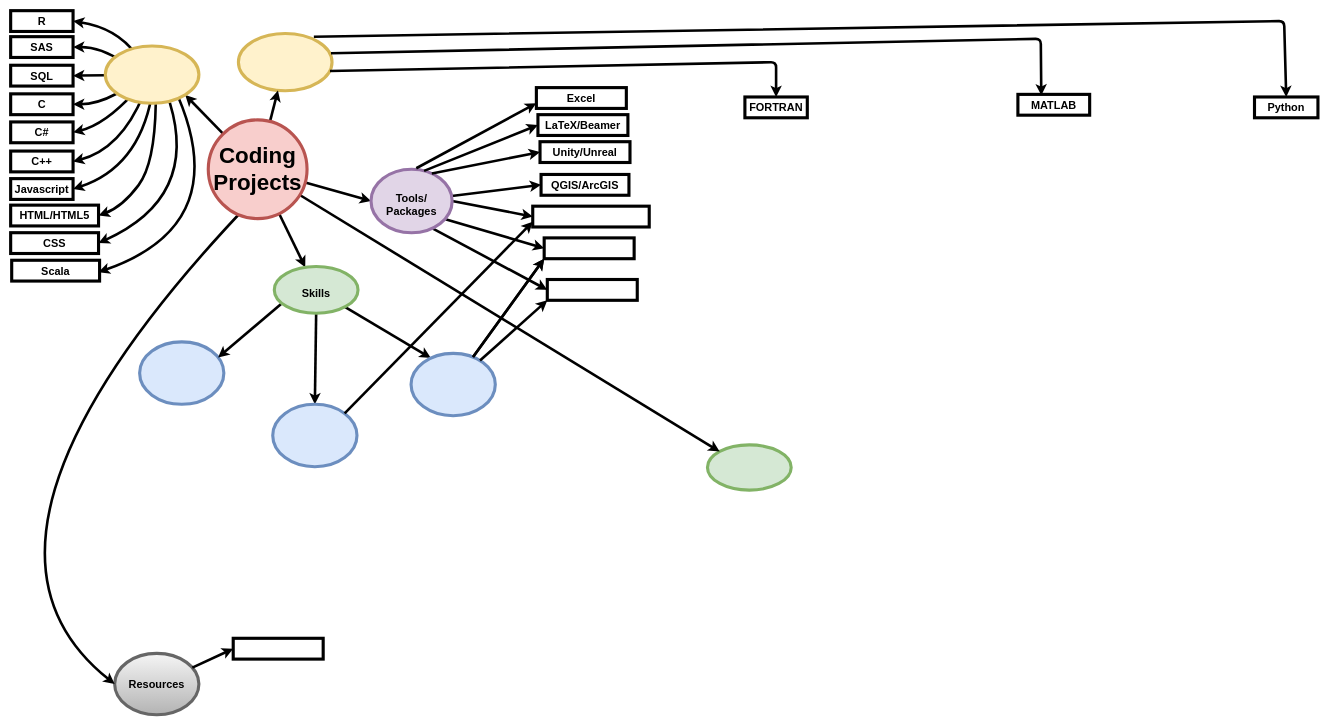
Some shapes in this 1328 by 725 pixel diagram are drawn without their labels. Here are the shapes that lost their labels. From the top down, the centre of each, then its label:
the point at 151,74: New Languages
the point at 285,62: Known Languages
the point at 591,216: Tensorflow/Keras
the point at 588,248: Dash
the point at 592,290: Tableau
the point at 181,373: Statistical Analysis
the point at 453,384: Data Visualisation
the point at 314,435: AI/Machine Learning
the point at 749,467: Practice Projects
the point at 277,648: FreeCodeCamp
